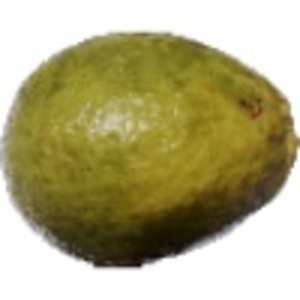goiaba: (3, 25, 291, 277)
